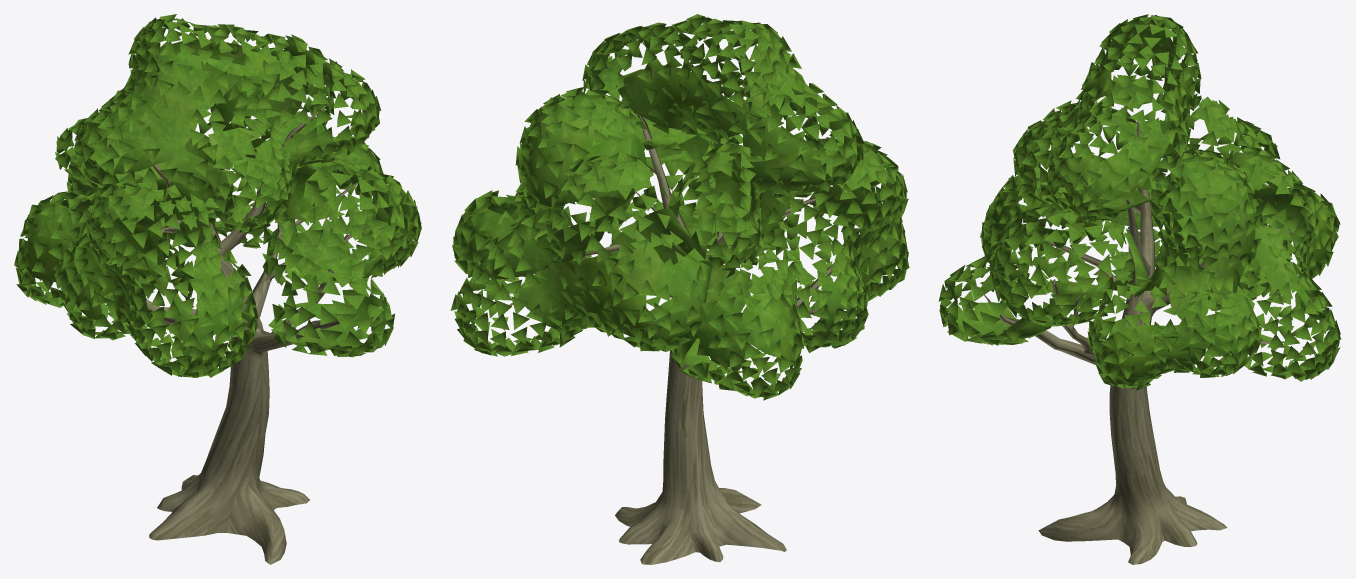
The model's file is SM_ENV_LKNVLD_Tree_A.FBX.
3 renders of one model, left to right at view 1: azimuth 30°, elevation 25°; view 2: azimuth 150°, elevation 25°; view 3: azimuth 270°, elevation 25°, orthographic. The views are drawn at different scales.
Visible parts, largest first — view 1: SM_ENV_LKNVLD_Tree_A; view 2: SM_ENV_LKNVLD_Tree_A; view 3: SM_ENV_LKNVLD_Tree_A.
Part boxes in pixels (<box>): SM_ENV_LKNVLD_Tree_A: <box>14,14,421,564</box>; SM_ENV_LKNVLD_Tree_A: <box>450,14,909,564</box>; SM_ENV_LKNVLD_Tree_A: <box>938,14,1341,564</box>.
Bounding box in the file's own units: 1005 × 1393 × 1027.
